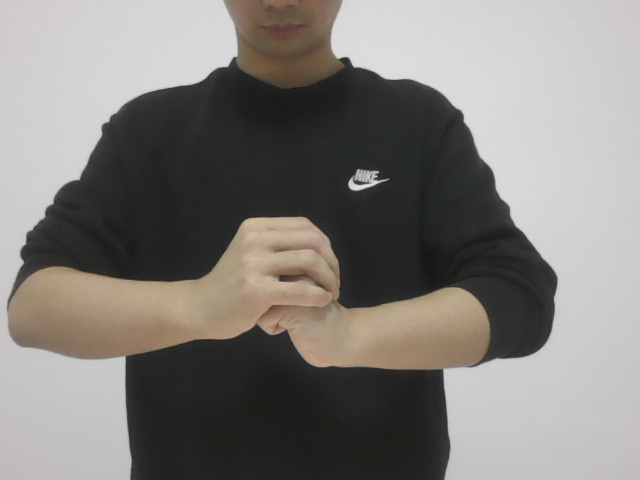wish: (204, 206, 352, 372)
